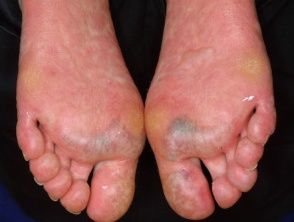SJS-TEN: (0, 0, 170, 222), (120, 0, 284, 222)
